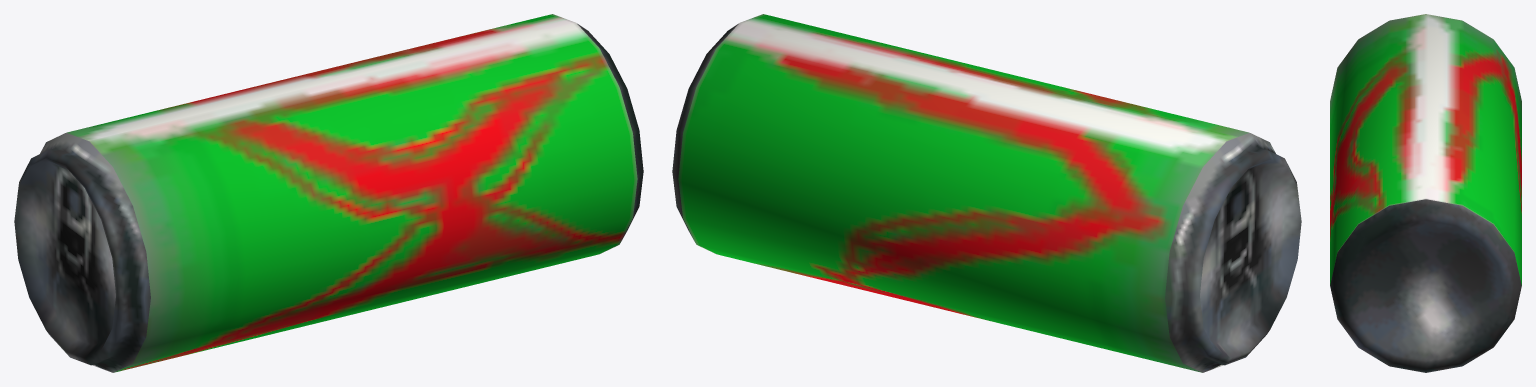
The model's file is SODA.glb.
The picture shows the model from 3 angles, left to right: view 1: azimuth 30°, elevation 25°; view 2: azimuth 150°, elevation 25°; view 3: azimuth 270°, elevation 25°; orthographic projection. The views are drawn at different scales.
Parts seen in each view (by area): view 1: SODA; view 2: SODA; view 3: SODA.
Boxes of the visible parts, bbox=[...] form: SODA: bbox=[14, 14, 643, 372]; SODA: bbox=[672, 14, 1301, 372]; SODA: bbox=[1330, 14, 1521, 372].
Bounding box in the file's own units: 0.43 × 0.175 × 0.175.
1 material, 1 textured.
